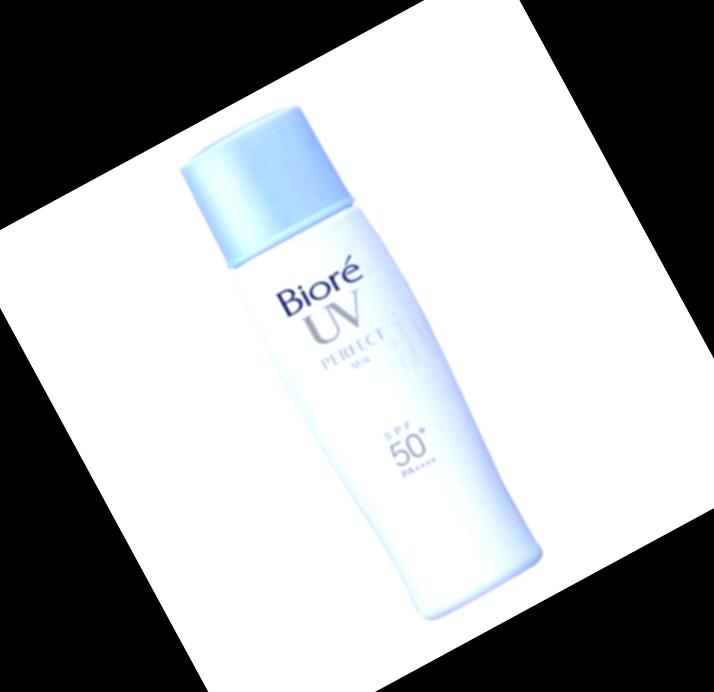cosmetic: (162, 89, 563, 631)
